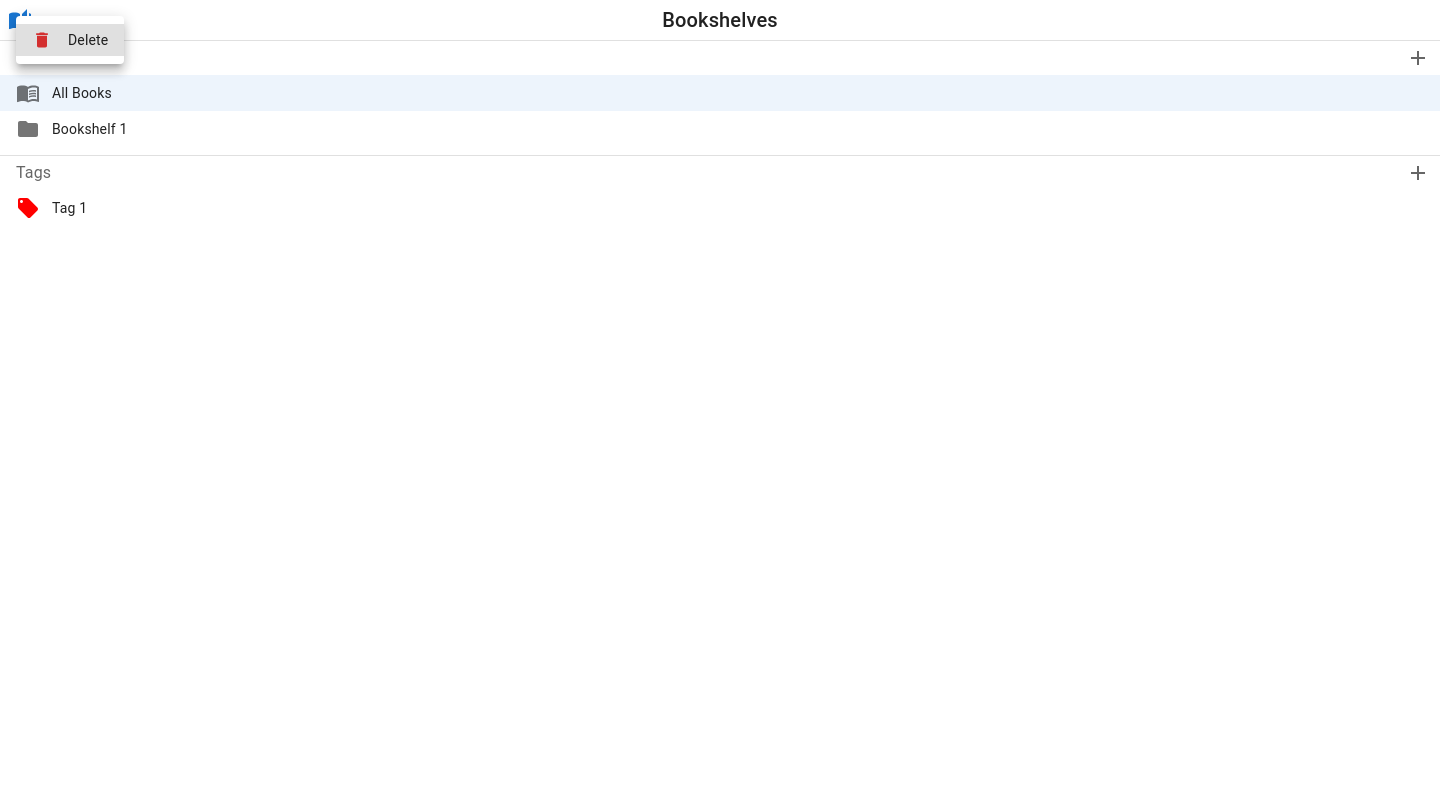
Test: MenuList › should not delete a collection until the confirmation is accepted
Click the menu item "Delete" at (70, 40), box [16,24,124,56]
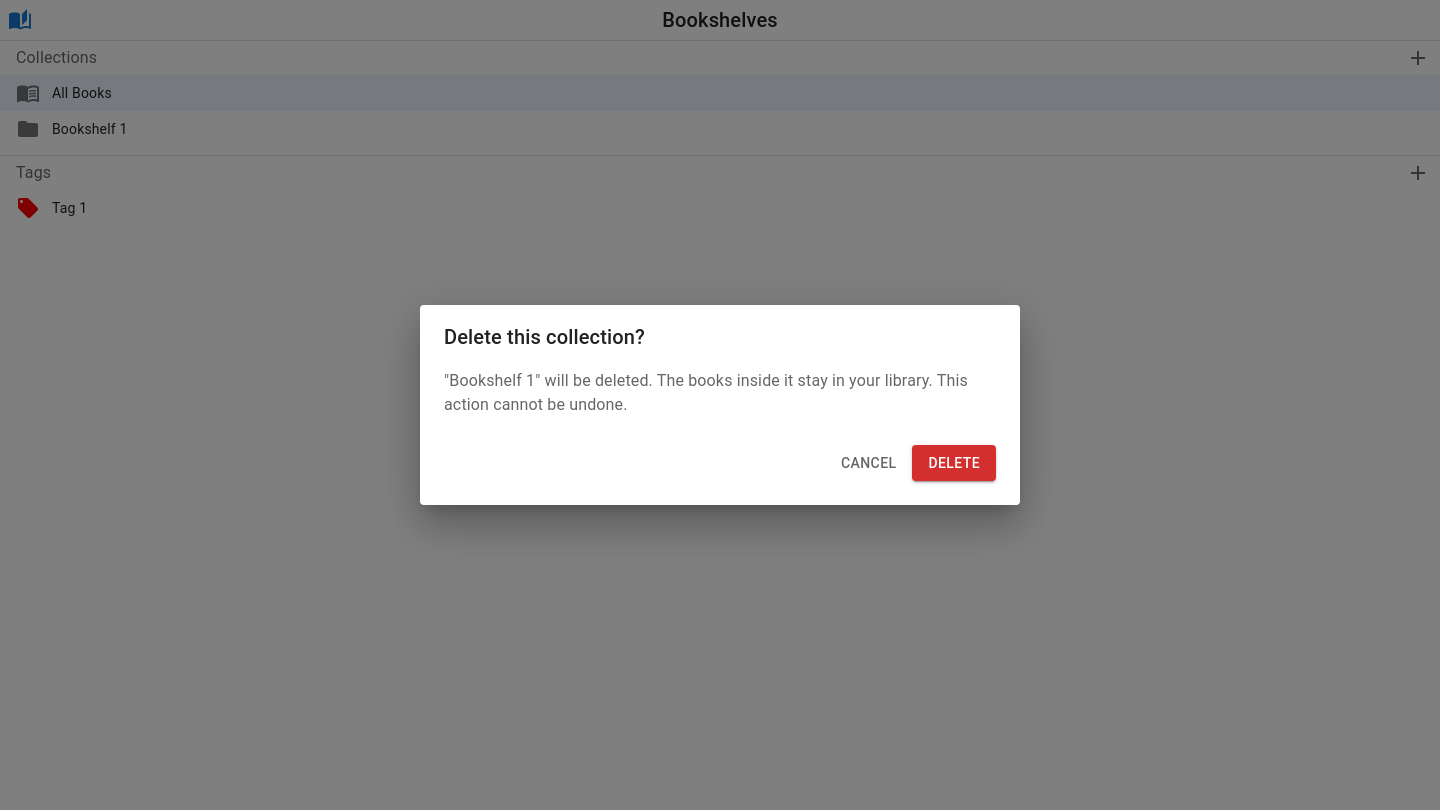
Click the button "Cancel" at (869, 463), box [833,445,904,481]
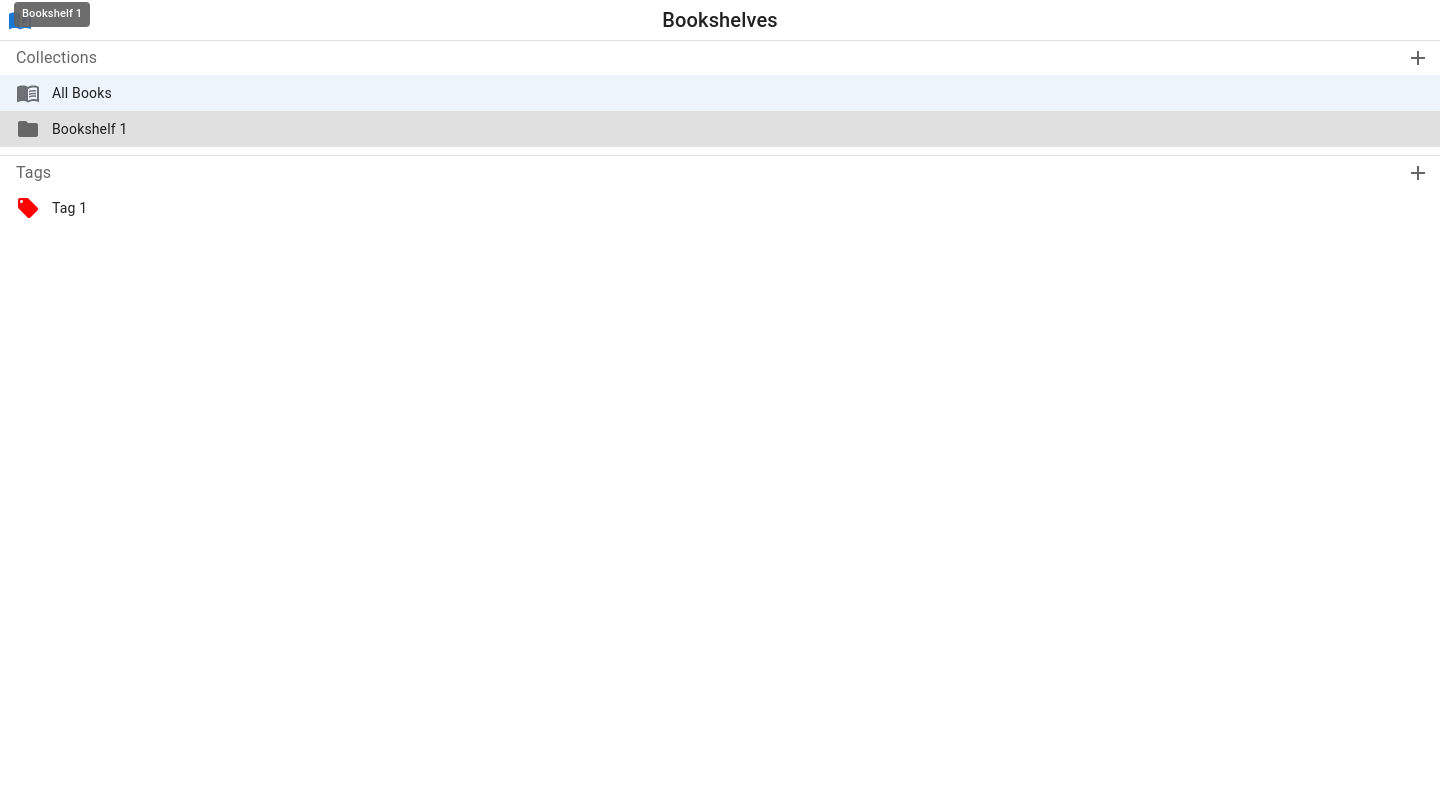
expect the heading "Delete this collection?" is gone: met
